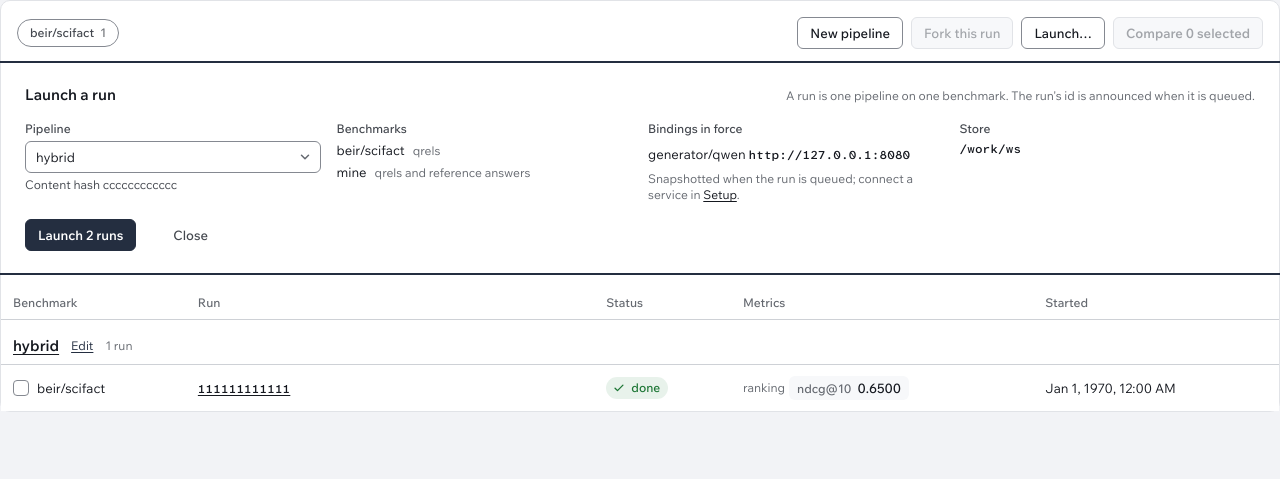
Scenario: the launch panel on several benchmarks › says a partial failure as it is: what was queued, and what was refused with its reason
Step 1. Click the button "Launch 2 runs" → (81, 235), box [25,219,136,251]
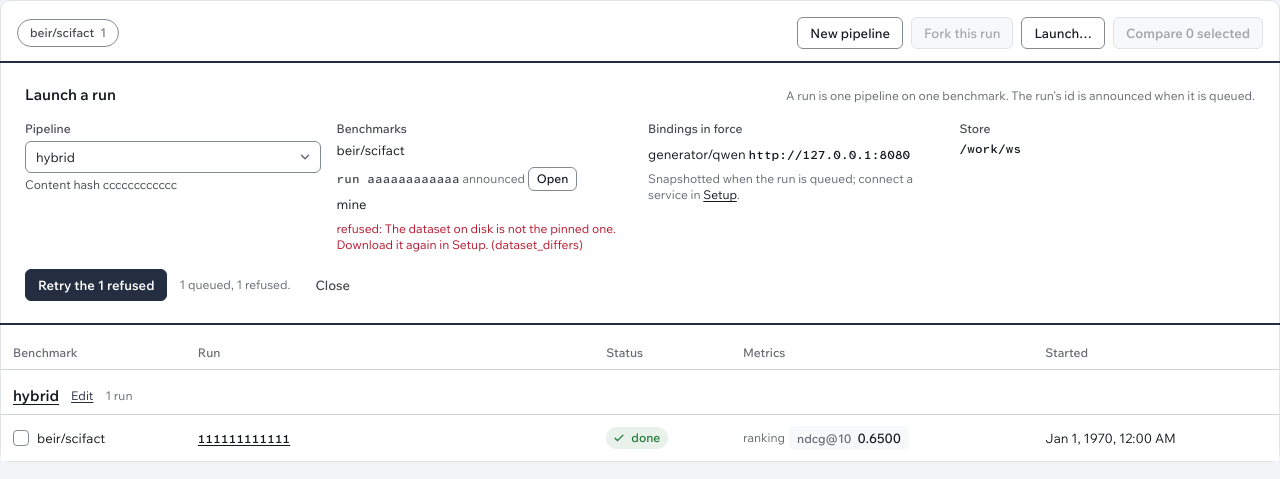
Expected: the list item "mine" shows "refused: The dataset on disk is not the pinned one. Download it again in Setup. (dataset_differs)", [336,221,616,252]
